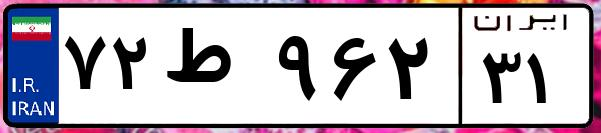1: (525, 38, 570, 115)
2: (385, 28, 445, 110), (110, 28, 158, 98)
3: (475, 38, 525, 113)
6: (330, 28, 385, 110)
7: (57, 26, 110, 100)
9: (270, 28, 330, 110)
ط: (158, 20, 270, 120)
